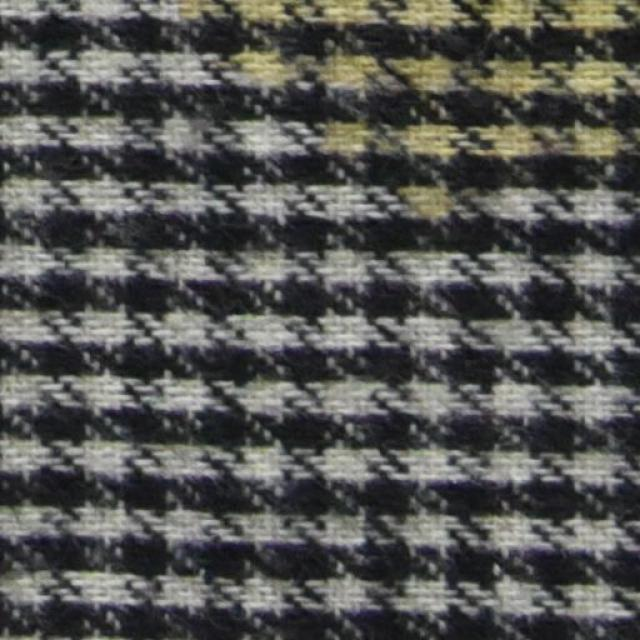Stain: (184, 0, 639, 224)
